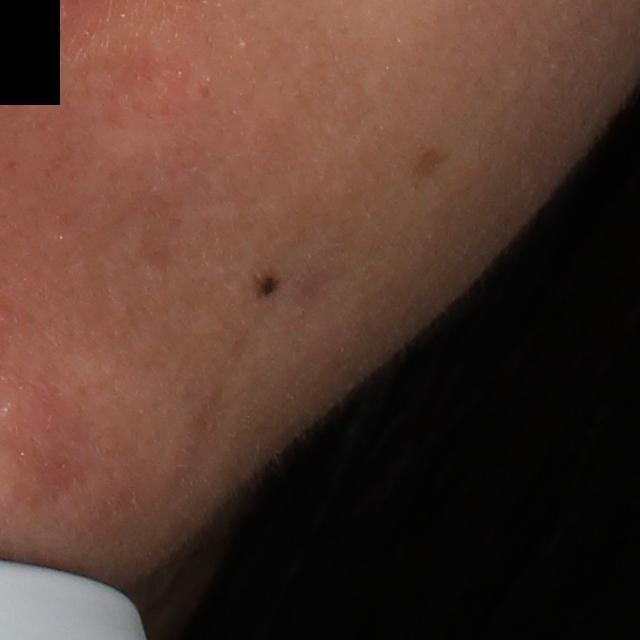nevus: (258, 275, 283, 304)
